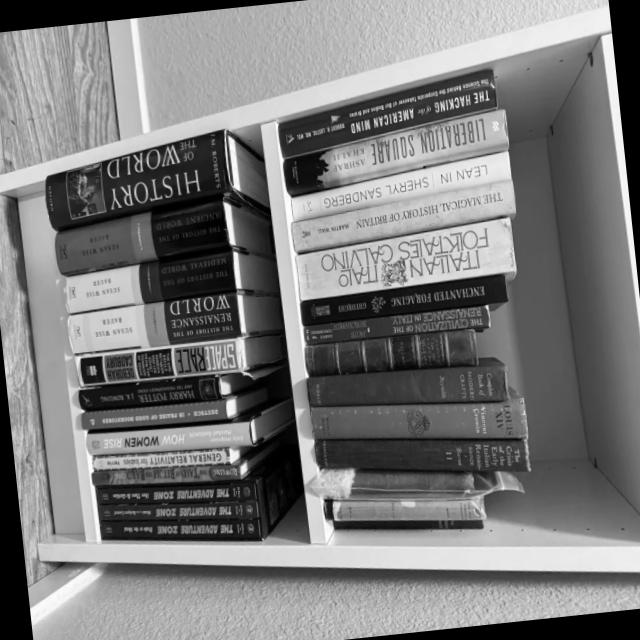book: (40, 126, 268, 231), (273, 67, 501, 160), (279, 108, 512, 198), (293, 218, 516, 302), (288, 179, 518, 254), (51, 196, 272, 274), (288, 151, 513, 222), (65, 286, 282, 359), (62, 244, 278, 313), (83, 399, 295, 463), (74, 334, 286, 389), (89, 440, 282, 500), (299, 274, 508, 329), (309, 390, 527, 440), (305, 357, 509, 407), (303, 330, 476, 379), (79, 388, 268, 432), (302, 304, 489, 348), (314, 437, 529, 472), (77, 371, 253, 411), (323, 494, 485, 521), (99, 518, 261, 543), (95, 480, 256, 505), (91, 447, 249, 470), (97, 500, 258, 521), (352, 468, 474, 494), (333, 519, 483, 530)
